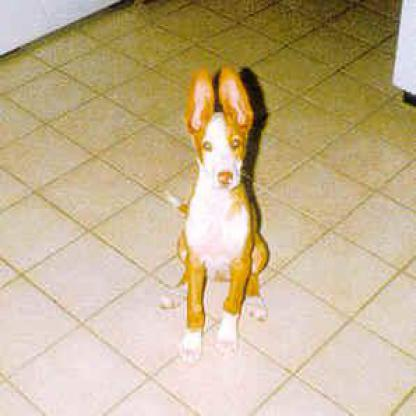dog: (176, 53, 270, 336)
